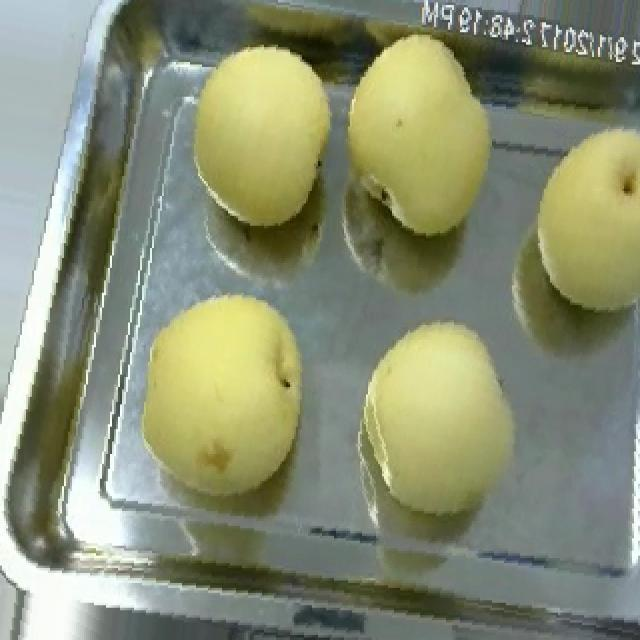Fruit: (114, 271, 326, 518), (322, 17, 512, 253), (346, 305, 536, 531), (166, 20, 352, 248), (514, 104, 640, 330)
